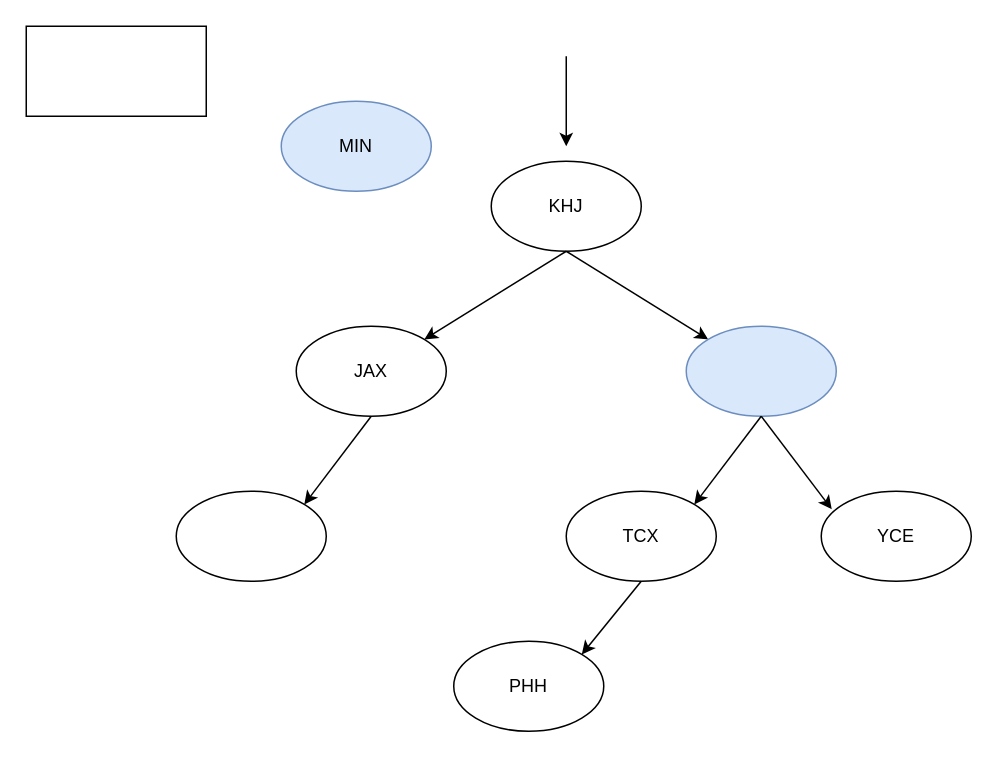
The diagram is 998 pixels wide and 758 high, and some of its shapes have lost their labels. The centre of each missing label's shape, as x and y in pixels:
"AVL INSERÇÃO 9.2" belongs at [115,70].
"CPV" belongs at [250,535].
"UZE" belongs at [760,370].
